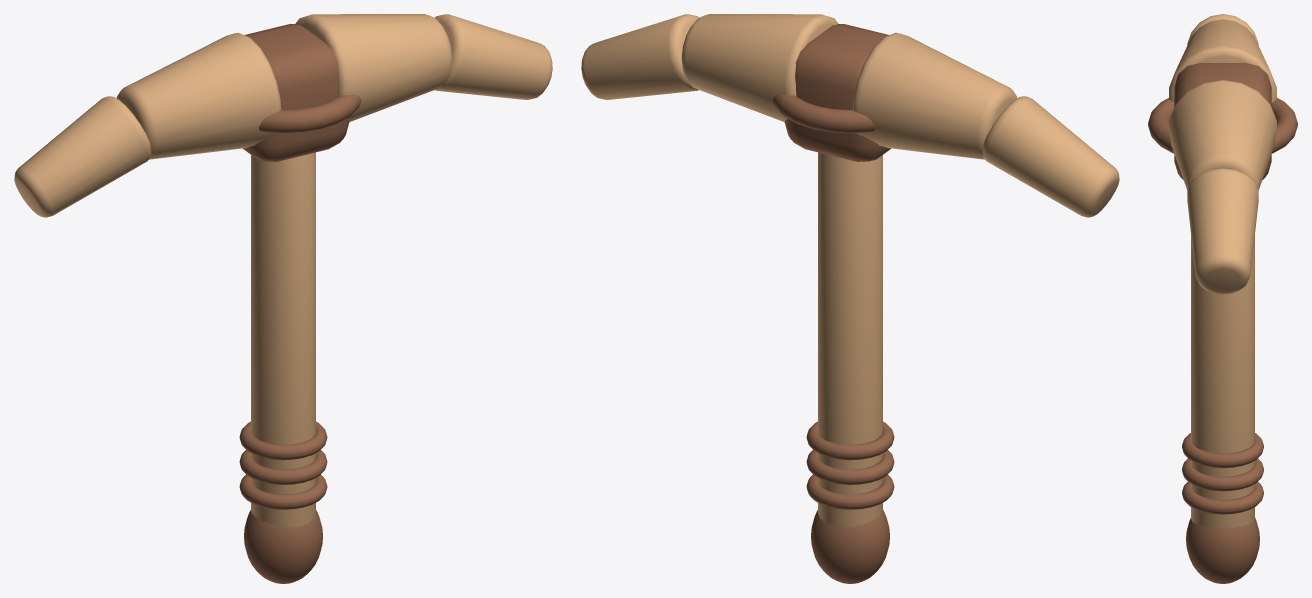
File: pickaxe_wood.glb
3 renders of one model, left to right at view 1: azimuth 30°, elevation 25°; view 2: azimuth 150°, elevation 25°; view 3: azimuth 270°, elevation 25°, orthographic. The views are drawn at different scales.
Parts seen in each view (by area): view 1: Handle, Inner pick, Inner pick.001, Curved pick tip, Head hub, Curved pick tip.001, Rounded grip end, Wood head binding, Grip wrap.002, Grip wrap, Grip wrap.001; view 2: Handle, Inner pick, Inner pick.001, Curved pick tip, Head hub, Curved pick tip.001, Rounded grip end, Wood head binding, Grip wrap.002, Grip wrap, Grip wrap.001; view 3: Handle, Inner pick.001, Curved pick tip.001, Rounded grip end, Inner pick, Head hub, Wood head binding, Grip wrap.002, Grip wrap.001, Grip wrap, Curved pick tip.
Part boxes in pixels (x1,y1,x2,y2): Handle: (251,152,315,527); Inner pick: (116,32,281,159); Inner pick.001: (295,14,452,121); Curved pick tip: (14,96,151,217); Head hub: (243,24,349,161); Curved pick tip.001: (435,14,552,99); Rounded grip end: (244,510,322,583); Wood head binding: (259,94,361,133); Grip wrap.002: (239,421,327,460); Grip wrap: (239,474,327,509); Grip wrap.001: (239,450,327,484); Handle: (818,152,882,527); Inner pick: (852,32,1017,159); Inner pick.001: (681,14,838,121); Curved pick tip: (982,96,1119,217); Head hub: (784,24,890,161); Curved pick tip.001: (581,14,698,99); Rounded grip end: (811,510,889,583); Wood head binding: (772,94,874,133); Grip wrap.002: (806,421,894,460); Grip wrap: (806,474,894,509); Grip wrap.001: (806,450,894,484); Handle: (1191,235,1254,527); Inner pick.001: (1169,80,1276,189); Curved pick tip.001: (1187,168,1258,294); Rounded grip end: (1186,518,1259,583); Inner pick: (1169,19,1276,102); Head hub: (1174,63,1271,179); Wood head binding: (1148,98,1297,153); Grip wrap.002: (1182,433,1263,468); Grip wrap.001: (1182,458,1263,491); Grip wrap: (1182,482,1263,514); Curved pick tip: (1187,14,1258,44).
Bounding box in the file's own units: 2.22 × 2.23 × 0.5853.
